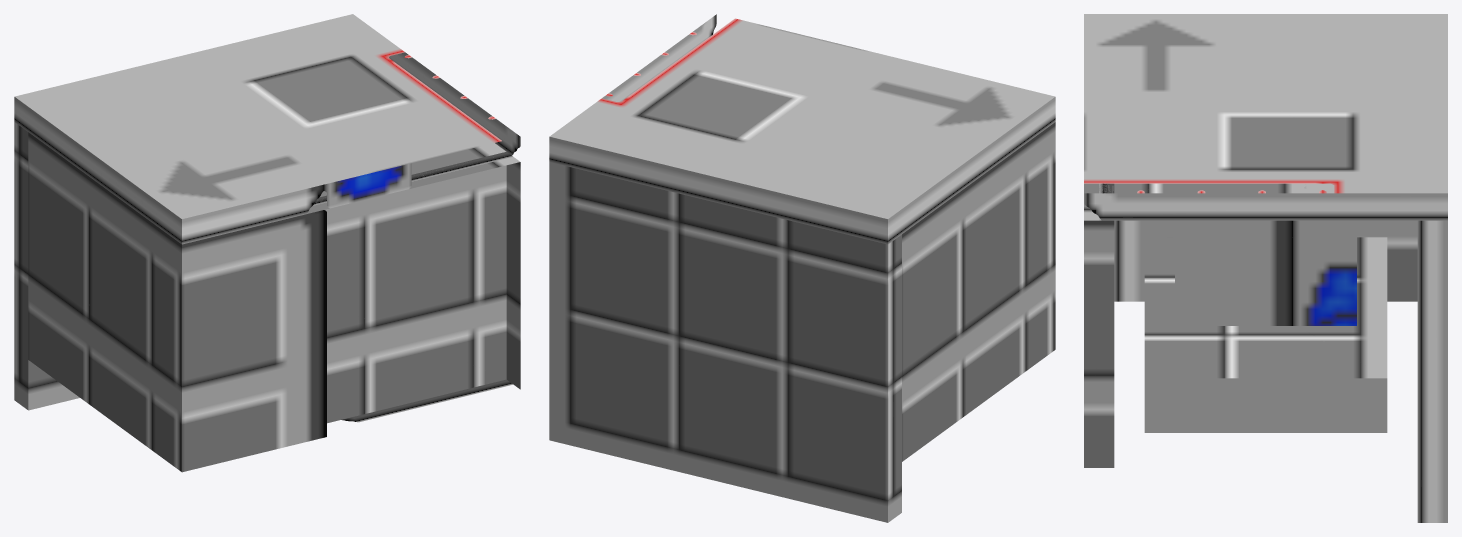
Rendered from cleaning_station.obj.
3 views of the same model, side by side, from view 1: azimuth 30°, elevation 25°; view 2: azimuth 150°, elevation 25°; view 3: azimuth 270°, elevation 25° (orthographic). The views are drawn at different scales.
Visible parts, largest first — view 1: machine; view 2: machine; view 3: machine.
Boxes of the visible parts, x1=… form: machine: x1=14, y1=14, x2=520, y2=472; machine: x1=549, y1=14, x2=1055, y2=522; machine: x1=1084, y1=14, x2=1447, y2=522.
Size of the model in its own units: 0.875 by 0.7937 by 0.75.
